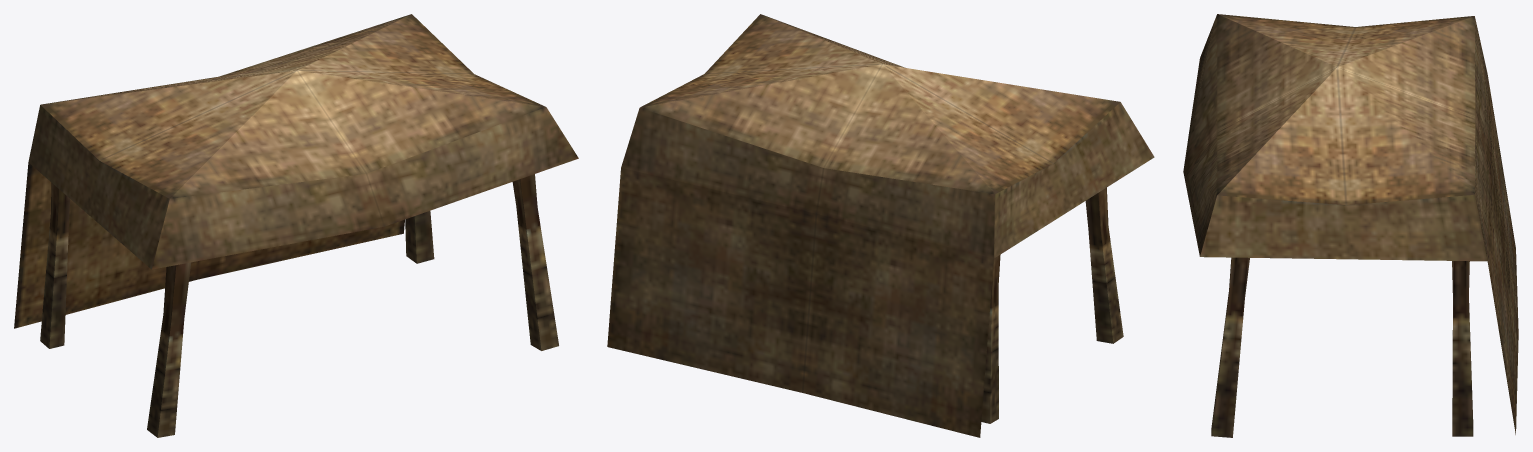
File: b_general_obj_06.glb
3 renders of one model, left to right at view 1: azimuth 30°, elevation 25°; view 2: azimuth 150°, elevation 25°; view 3: azimuth 270°, elevation 25°, orthographic. The views are drawn at different scales.
Parts seen in each view (by area): view 1: Object02; view 2: Object02; view 3: Object02.
Boxes of the visible parts, bbox=[...] form: Object02: bbox=[14, 14, 578, 437]; Object02: bbox=[607, 14, 1154, 437]; Object02: bbox=[1183, 14, 1518, 437].
Bounding box in the file's own units: 5.57 × 3.49 × 3.84.
1 material, 1 textured.
